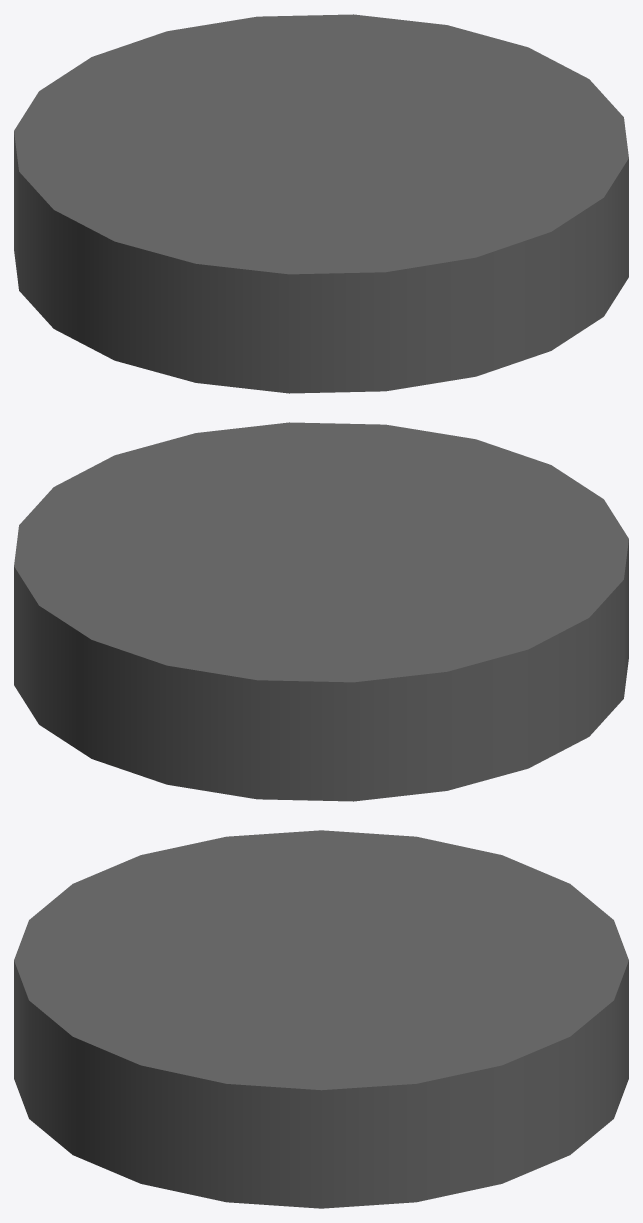
File: Platform_TrafficLight.fbx
The picture shows the model from 3 angles, top to bottom: view 1: azimuth 30°, elevation 25°; view 2: azimuth 150°, elevation 25°; view 3: azimuth 270°, elevation 25°; orthographic projection.
Visible parts, largest first — view 1: pCylinder1; view 2: pCylinder1; view 3: pCylinder1.
Boxes of the visible parts, box(x1,y1,x2,y2) form: pCylinder1: box(14, 14, 628, 393); pCylinder1: box(14, 422, 628, 801); pCylinder1: box(14, 830, 628, 1208).
Bounding box in the file's own units: 230 × 48.97 × 230.
